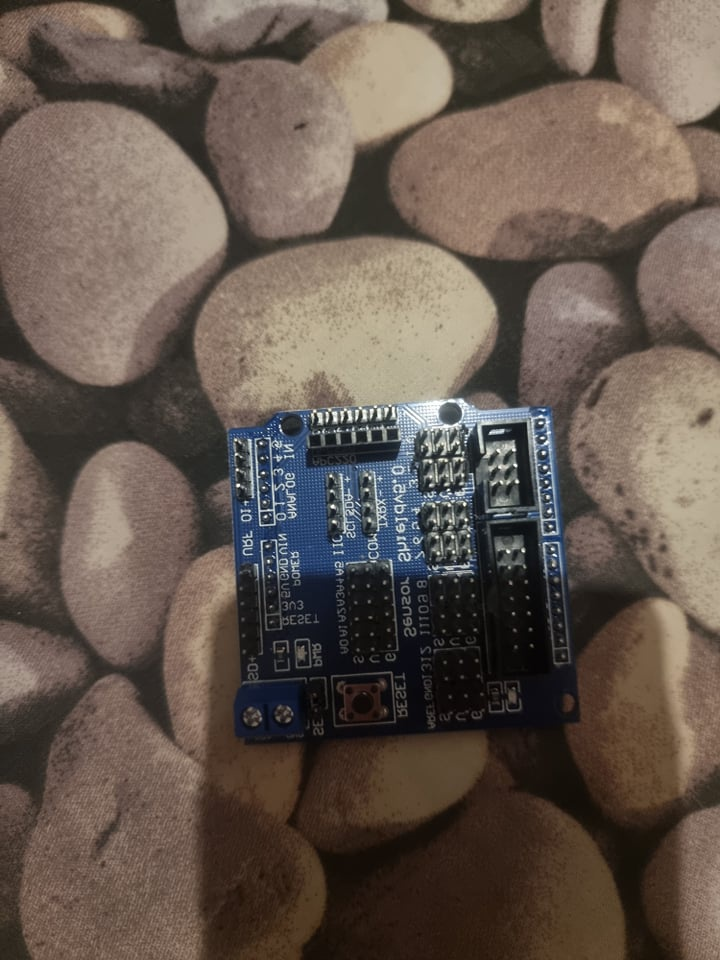5V EXPANSION: (225, 403, 585, 745)
